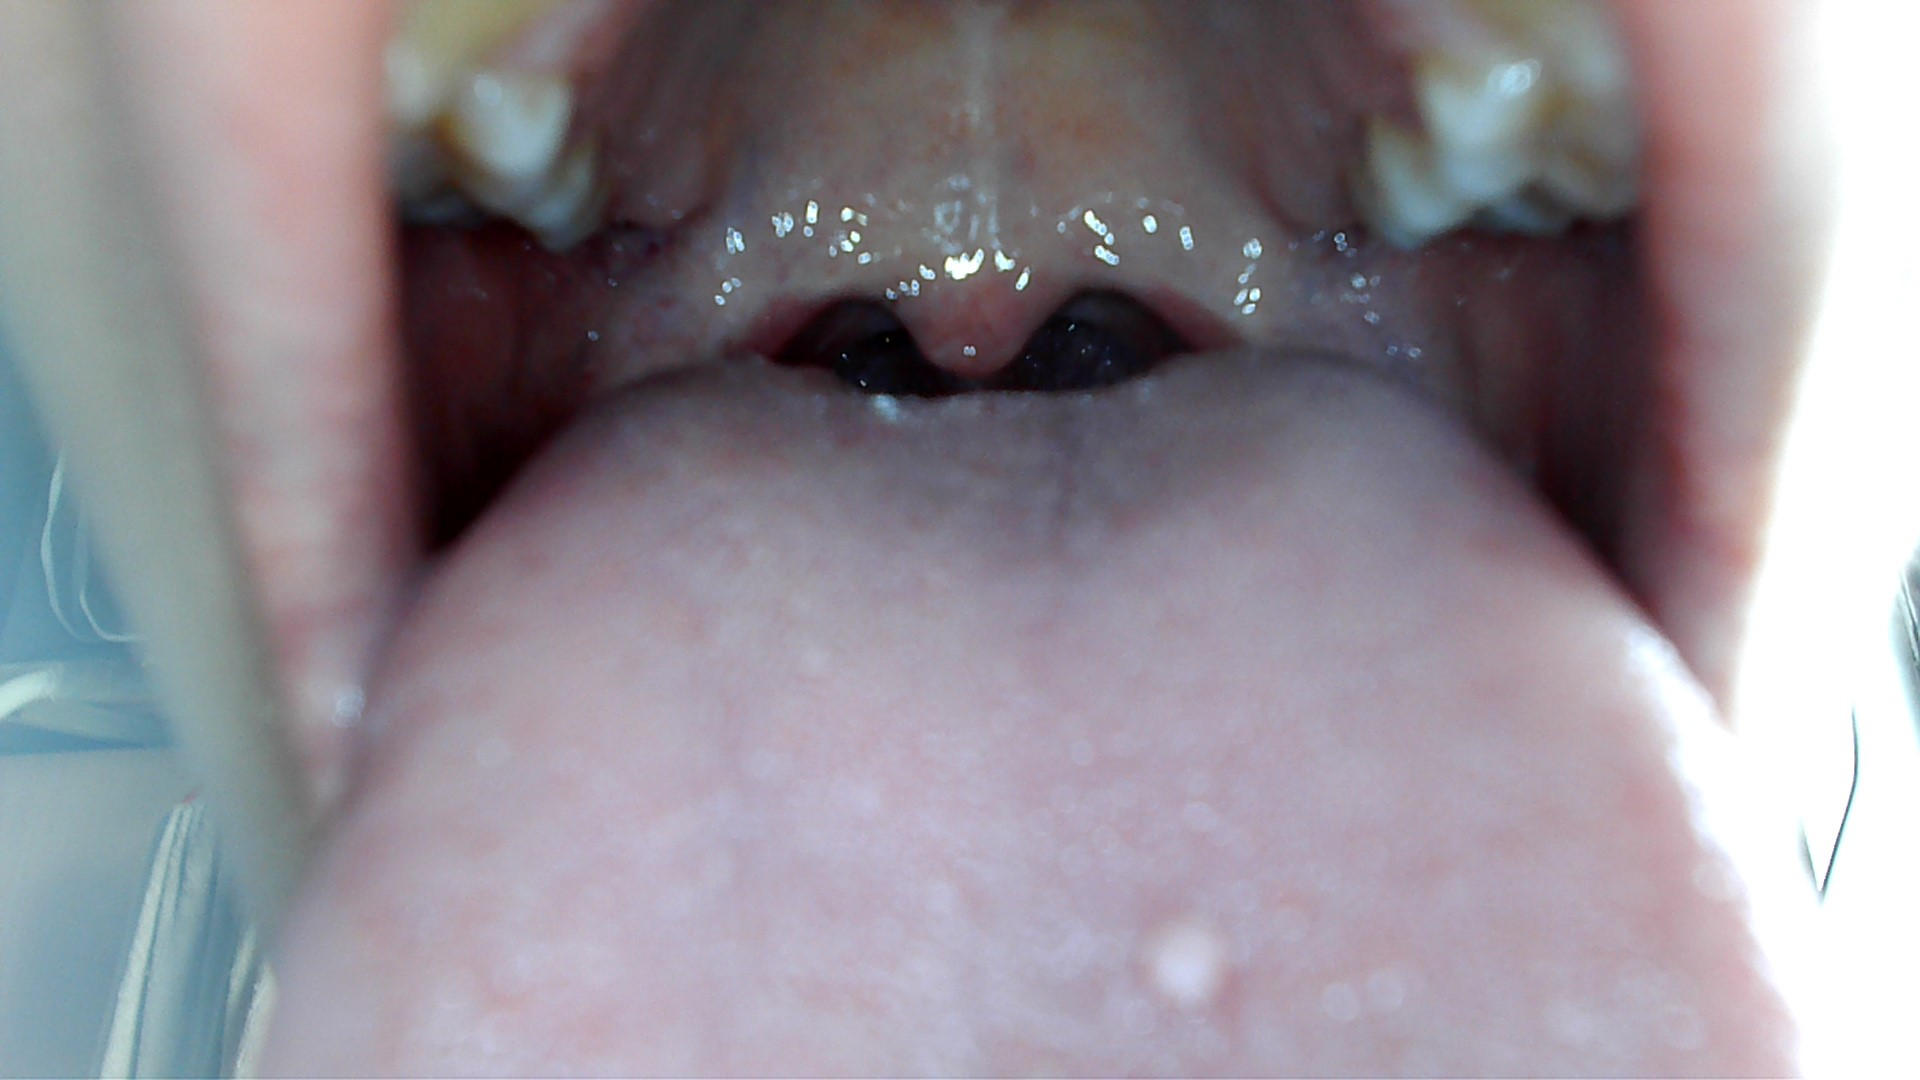throat: (618, 228, 825, 364), (1142, 196, 1278, 356)
